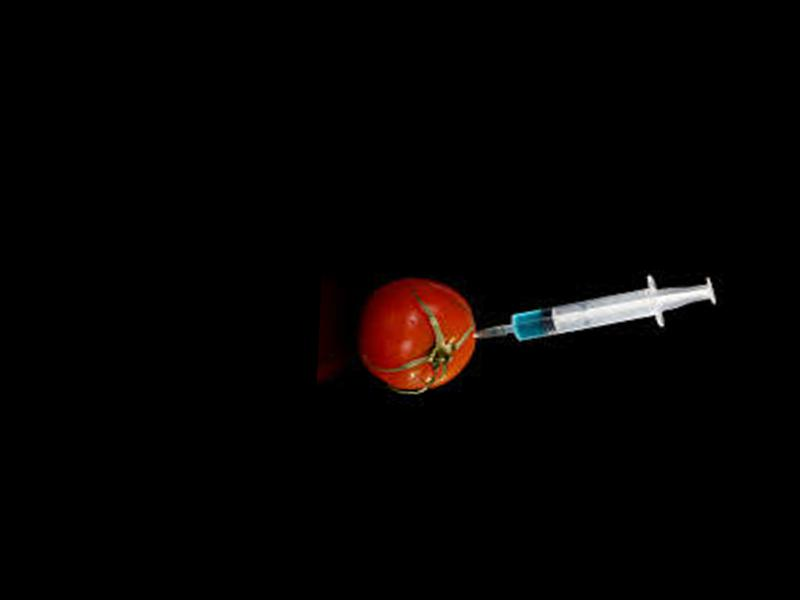Tomato: (359, 275, 479, 396)
